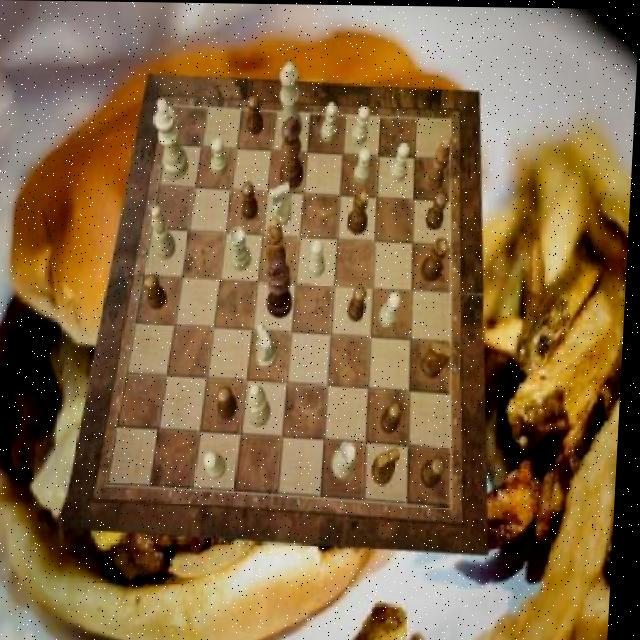bishop: (425, 135, 451, 191), (269, 215, 290, 269)
black-bishop: (268, 257, 297, 319)
black-king: (423, 339, 457, 378), (376, 446, 405, 485)
black-knight: (146, 274, 170, 311), (424, 456, 450, 489), (383, 400, 407, 434), (428, 191, 449, 229), (247, 95, 266, 136), (220, 386, 241, 420), (351, 284, 370, 320), (242, 180, 260, 218)
black-pawn: (281, 117, 308, 192)
black-queen: (423, 236, 452, 282), (349, 187, 371, 233)
black-rook: (151, 205, 179, 260), (250, 383, 275, 427)
white-bishop: (153, 97, 193, 180)
white-king: (258, 322, 282, 368), (269, 182, 294, 226)
white-knight: (381, 291, 404, 327), (391, 142, 411, 182), (351, 104, 370, 144), (211, 136, 230, 175), (310, 239, 329, 277), (321, 102, 339, 142), (207, 451, 231, 480), (354, 147, 373, 183)
white-pawn: (278, 62, 305, 140)
white-queen: (229, 224, 254, 270), (335, 439, 361, 478)
